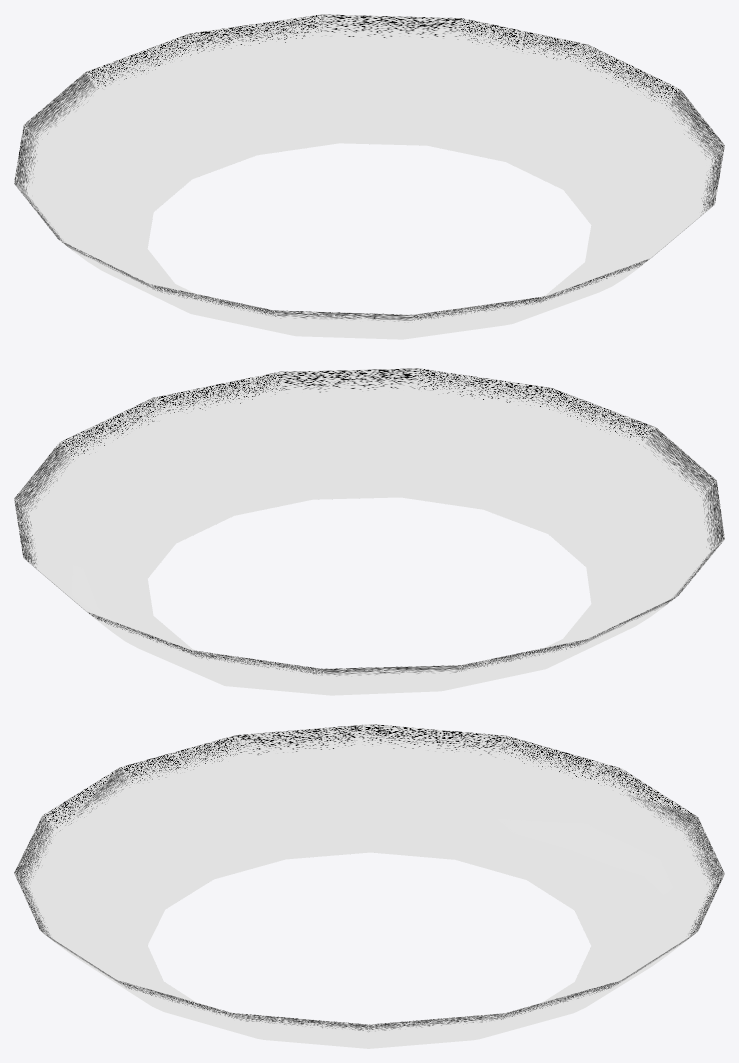
Rendered from FogVolume.fbx.
The picture shows the model from 3 angles, top to bottom: view 1: azimuth 30°, elevation 25°; view 2: azimuth 150°, elevation 25°; view 3: azimuth 270°, elevation 25°; orthographic projection.
Parts seen in each view (by area): view 1: FogVolume; view 2: FogVolume; view 3: FogVolume.
Part boxes in pixels (x1,y1,x2,y2): FogVolume: [14, 14, 724, 339]; FogVolume: [14, 368, 724, 695]; FogVolume: [14, 724, 724, 1048].
Bounding box in the file's own units: 10.64 × 1.19 × 10.64.
